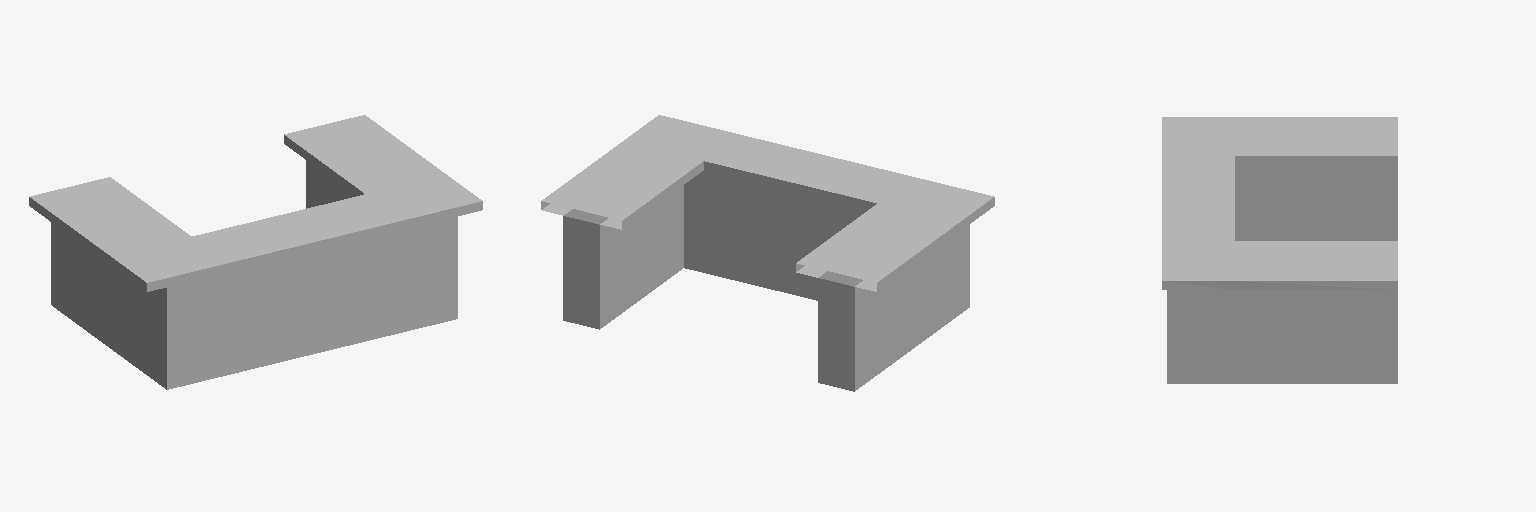
The model's file is desk.obj.
3 views of the same model, side by side, from view 1: azimuth 30°, elevation 25°; view 2: azimuth 150°, elevation 25°; view 3: azimuth 270°, elevation 25° (orthographic).
Parts seen in each view (by area): view 1: Cube; view 2: Cube; view 3: Cube.
Part boxes in pixels (left/top/right/bottom): Cube: left=29, top=115, right=482, bottom=389; Cube: left=541, top=115, right=994, bottom=391; Cube: left=1162, top=117, right=1397, bottom=383.
Bounding box in the file's own units: 4.61 × 1.5 × 2.81.